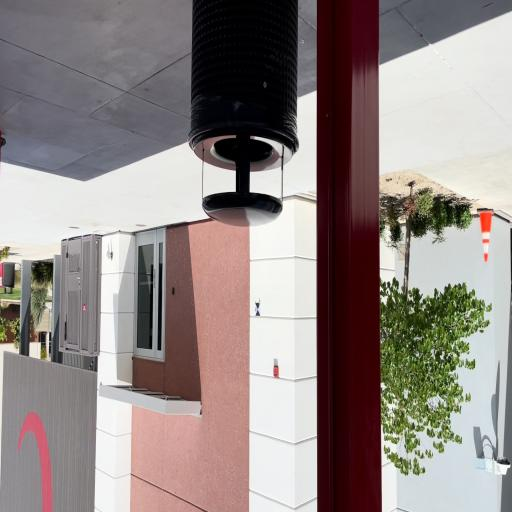target9: (254, 302, 260, 316)
